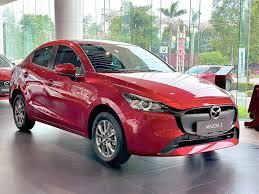mazda: (204, 99, 228, 125)
